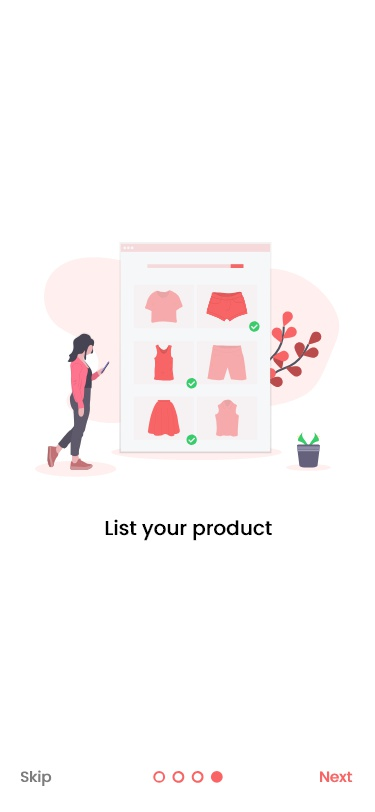Image: (35, 242, 339, 477)
PageIndicator: (152, 770, 224, 784)
Text: (105, 519, 274, 542), (21, 770, 53, 787), (319, 770, 353, 783)
